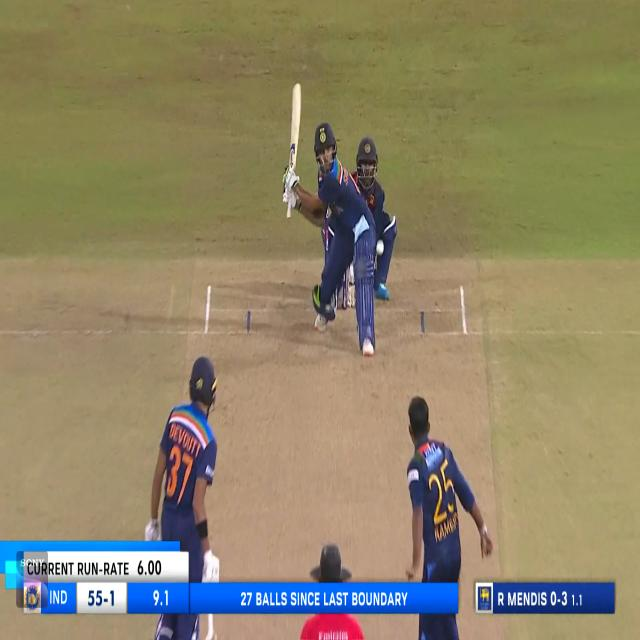ball: (376, 238, 385, 257)
